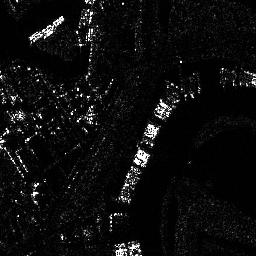ship: (27, 15, 65, 42), (144, 123, 159, 140)
